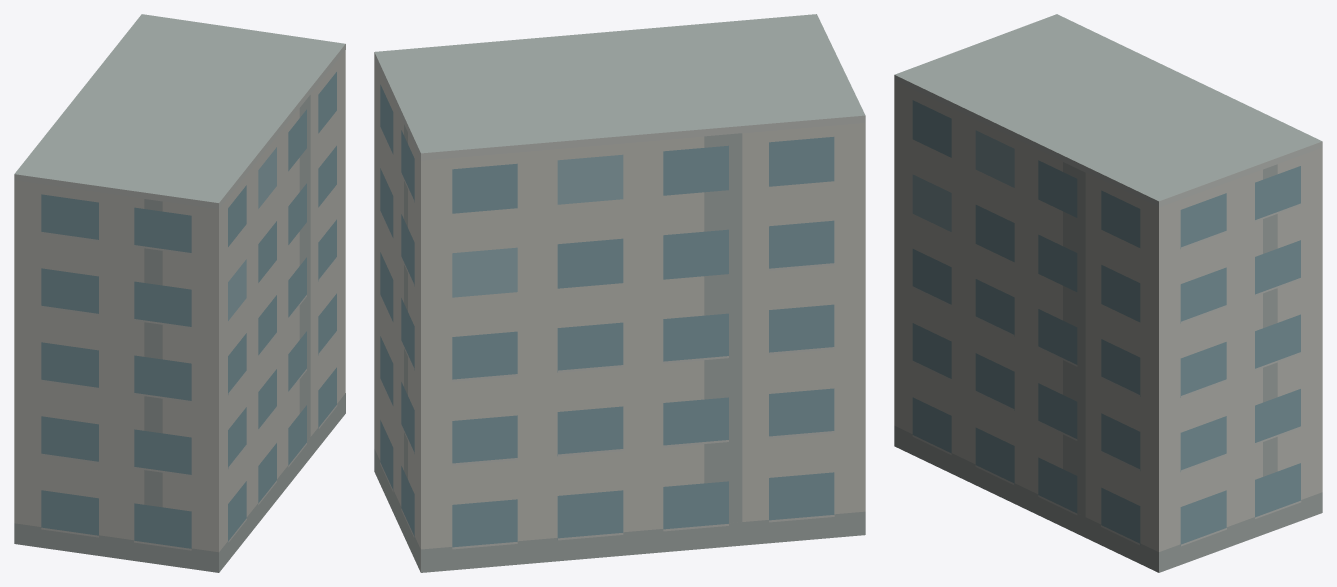
Rendered from survey-upis-32882481.glb.
3 views of the same model, side by side, from view 1: azimuth 30°, elevation 25°; view 2: azimuth 150°, elevation 25°; view 3: azimuth 270°, elevation 25° (orthographic). The views are drawn at different scales.
Parts seen in each view (by area): view 1: survey-upis-32882481.tmp; view 2: survey-upis-32882481.tmp; view 3: survey-upis-32882481.tmp.
Boxes of the visible parts, <box> form: survey-upis-32882481.tmp: <box>14,14,345,572</box>; survey-upis-32882481.tmp: <box>374,14,865,572</box>; survey-upis-32882481.tmp: <box>894,14,1322,572</box>.
Bounding box in the file's own units: 15.48 × 14.3 × 14.95.
